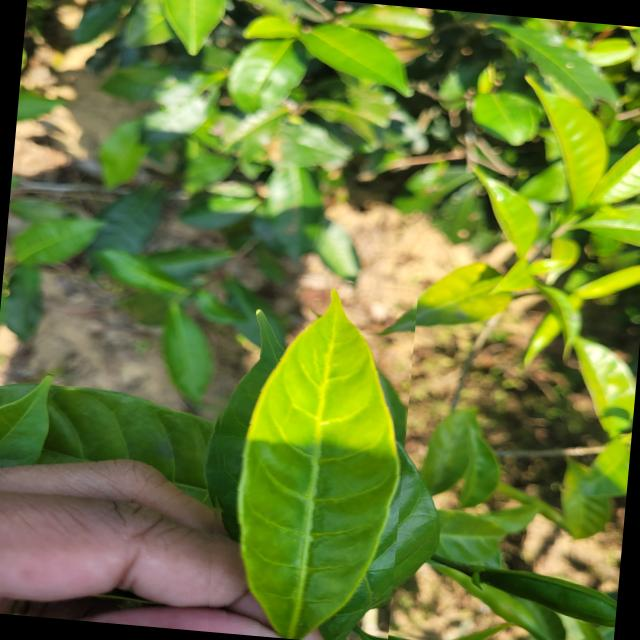Catagory A(1-2 days): (196, 268, 418, 640)
